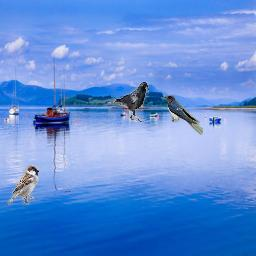Crow: (113, 82, 149, 122)
Sparrow: (7, 165, 39, 205)
Swallow: (165, 95, 203, 135)
